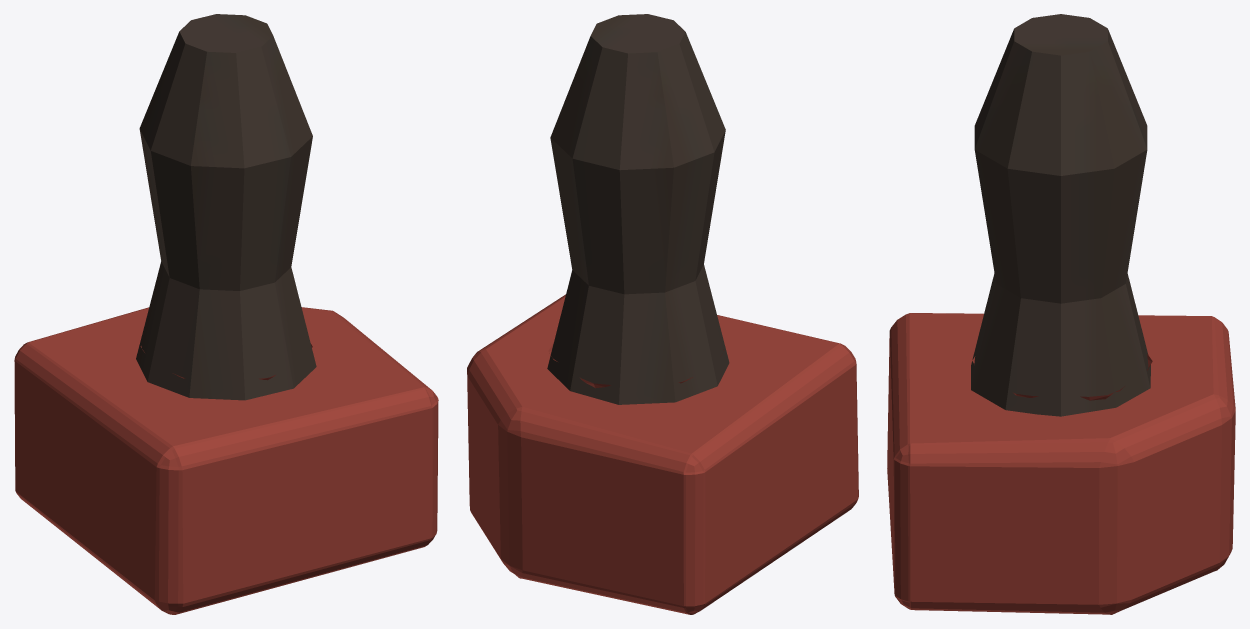
The model's file is PR_SealStamp_Chipped.glb.
3 views of the same model, side by side, from view 1: azimuth 30°, elevation 25°; view 2: azimuth 150°, elevation 25°; view 3: azimuth 270°, elevation 25° (orthographic). The views are drawn at different scales.
Visible parts, largest first — view 1: PR_SealStamp_Chipped; view 2: PR_SealStamp_Chipped; view 3: PR_SealStamp_Chipped.
Boxes of the visible parts, x1,y1,x2,y2 form: PR_SealStamp_Chipped: [14, 14, 438, 614]; PR_SealStamp_Chipped: [467, 14, 858, 614]; PR_SealStamp_Chipped: [887, 14, 1235, 614].
Size of the model in its own units: 0.092 by 0.1509 by 0.0921.
Materials: 2 (1 with a texture image).
